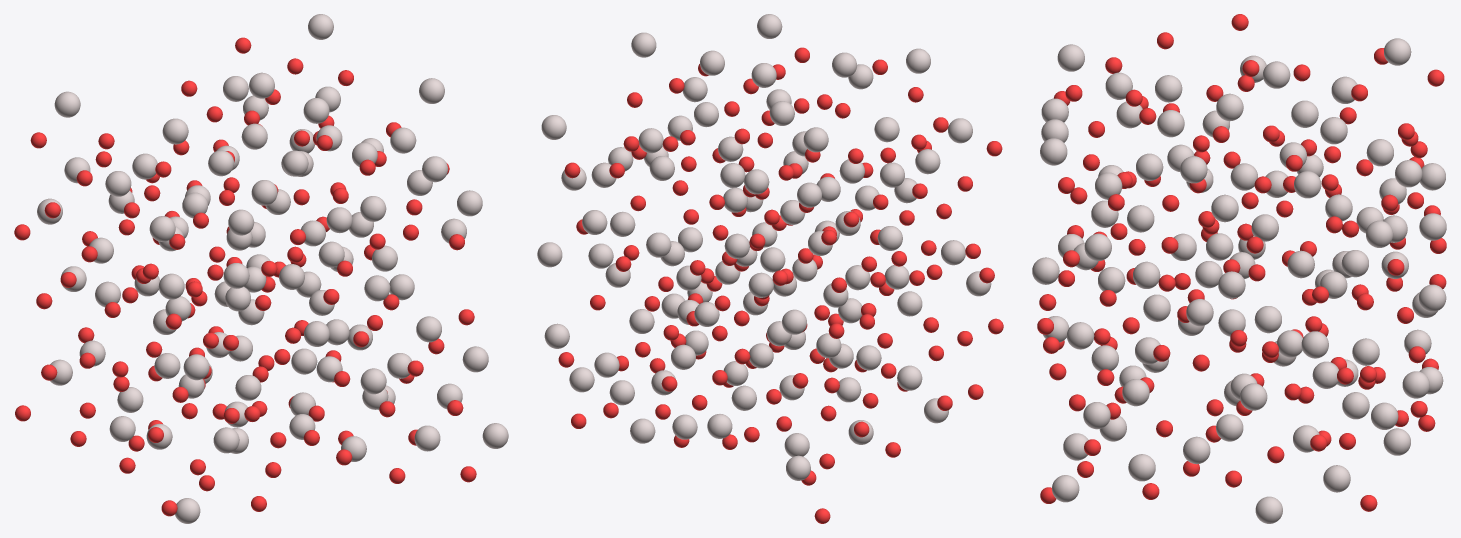
Rendered from AluminumOxide.glb.
3 views of the same model, side by side, from view 1: azimuth 30°, elevation 25°; view 2: azimuth 150°, elevation 25°; view 3: azimuth 270°, elevation 25° (orthographic). The views are drawn at different scales.
Parts seen in each view (by area): view 1: no part large enough to name; view 2: no part large enough to name; view 3: Aluminium_mesh|Aluminium_ball.001|Dupli|_primitive_primitive (×69).
Boxes of the visible parts, x1,y1,x2,y2 form: Aluminium_mesh|Aluminium_ball.001|Dupli|_primitive_primitive (×69): (1032,38,1446,523).
Size of the model in its own units: 13.96 by 14.25 by 14.28.
